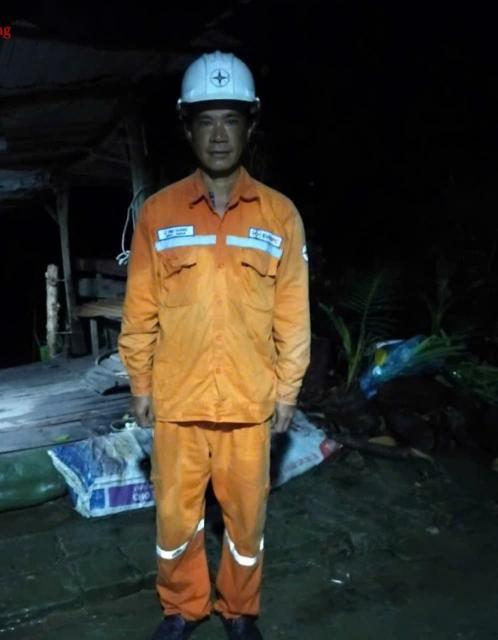helmet: (171, 47, 268, 123)
shoes: (140, 590, 203, 640), (217, 599, 273, 640)
